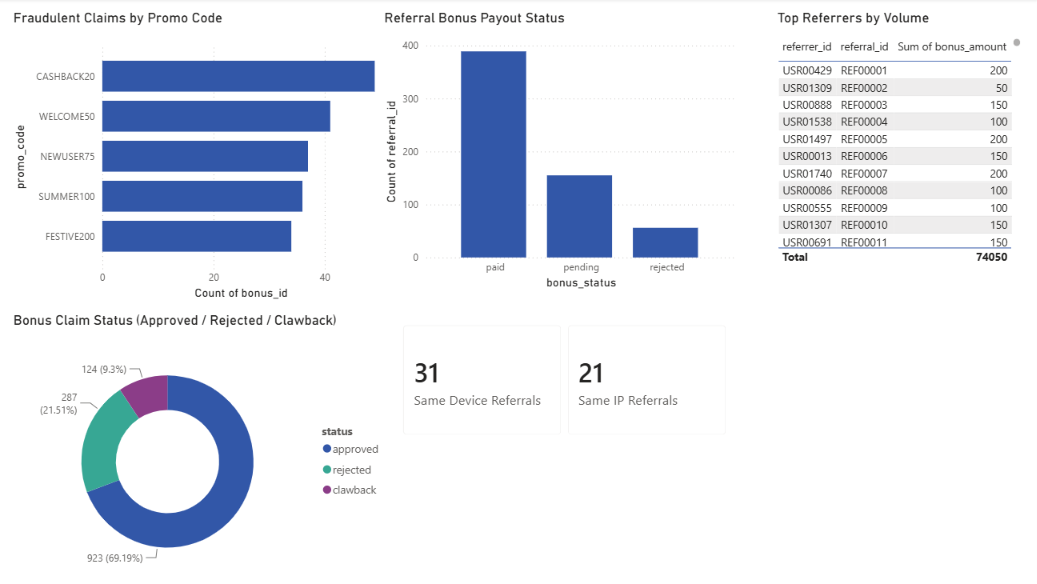

The page's visual inventory and layout, read from the dashboard file:
{"tool":"powerbi","page":{"name":"Bonus & Referral Fraud","canvas":[1280,720],"ordinal":3},"visuals":[{"type":"clusteredBarChart","title":"Fraudulent Claims by Promo Code","fields":{"Category":["bonuses.promo_code"],"Y":["CountNonNull(bonuses.bonus_id)"]},"box":[12.9,12.9,465.7,360],"z":0},{"type":"donutChart","title":"Bonus Claim Status (Approved / Rejected / Clawback)","fields":{"Category":["bonuses.status"],"Y":["CountNonNull(bonuses.bonus_id)"]},"box":[13,383,466,337],"z":1},{"type":"clusteredColumnChart","title":"Referral Bonus Payout Status","fields":{"Category":["referrals.bonus_status"],"Y":["CountNonNull(referrals.referral_id)"]},"box":[467.1,12.9,440,347.1],"z":2},{"type":"tableEx","title":"Top Referrers by Volume","fields":{"Values":["referrals.referrer_id","referrals.referral_id","Sum(referrals.bonus_amount)"]},"box":[947.1,12.9,307.1,317.1],"z":4},{"type":"cardVisual","fields":{"Data":["referrals.Same Device Referrals","referrals.Same IP Referrals"]},"box":[478.6,382.9,428.6,168.6],"z":5}]}

Visuals, with their boxes in screenshot pixels (x1, y1, x2, y2), scaled from the page's 1280x720 canvas onto the 1037x584 screenshot:
"Fraudulent Claims by Promo Code" clusteredBarChart: left=10, top=10, right=388, bottom=302
"Bonus Claim Status (Approved / Rejected / Clawback)" donutChart: left=11, top=311, right=388, bottom=583
"Referral Bonus Payout Status" clusteredColumnChart: left=378, top=10, right=735, bottom=292
"Top Referrers by Volume" tableEx: left=767, top=10, right=1016, bottom=268
cardVisual - referrals.Same Device Referrals x referrals.Same IP Referrals: left=388, top=311, right=735, bottom=447
